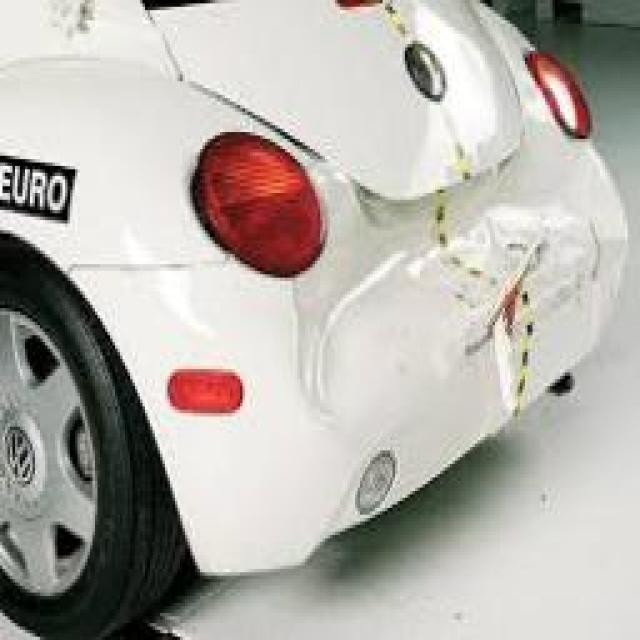replaceable: (310, 229, 624, 396)
